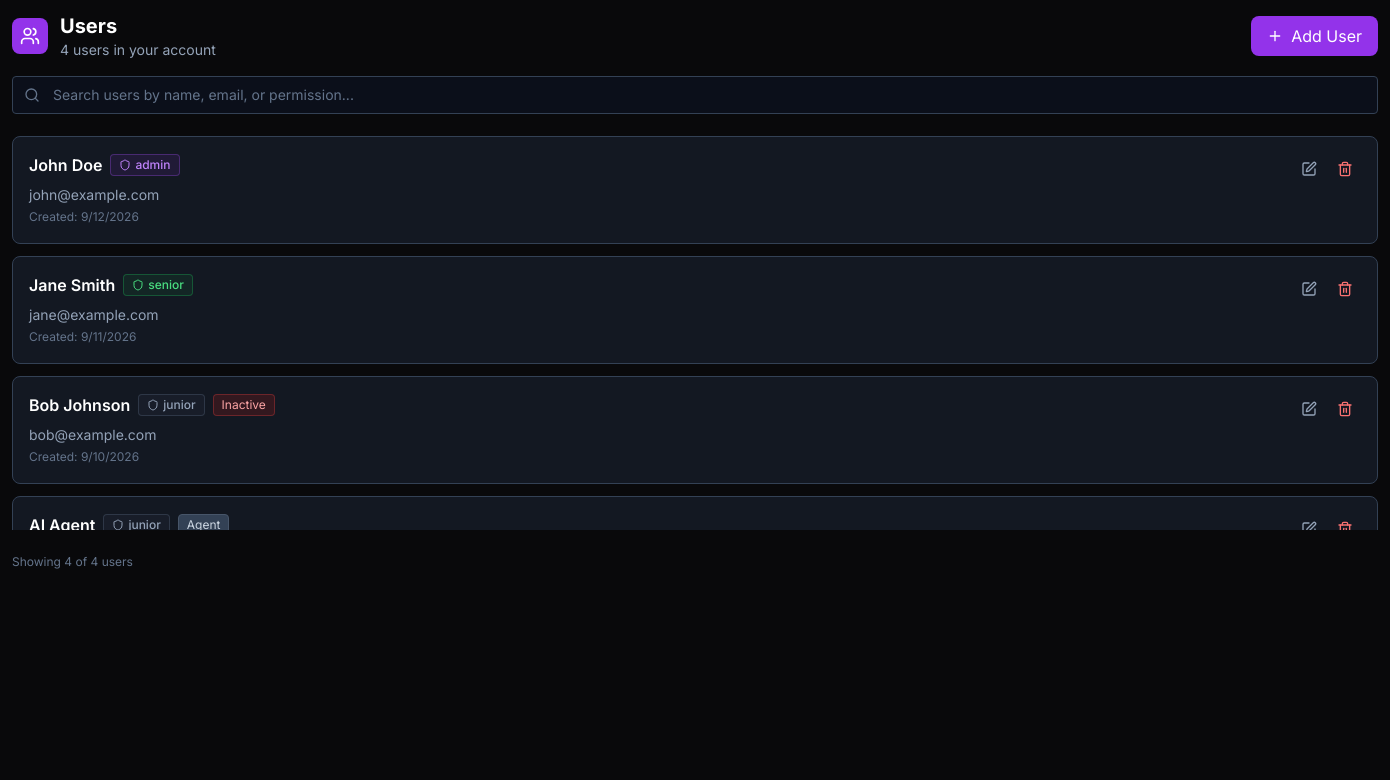
it: UsersListCard › Search and Filter › should filter users by email
This screenshot has width=1390, height=780.
Expected: the heading "Jane Smith" is shown, [29,273,115,297]
Step 1. Type "jane@" into the field with placeholder "Search users by name, email, or permission..." → [695, 95], box [12,76,1378,114]
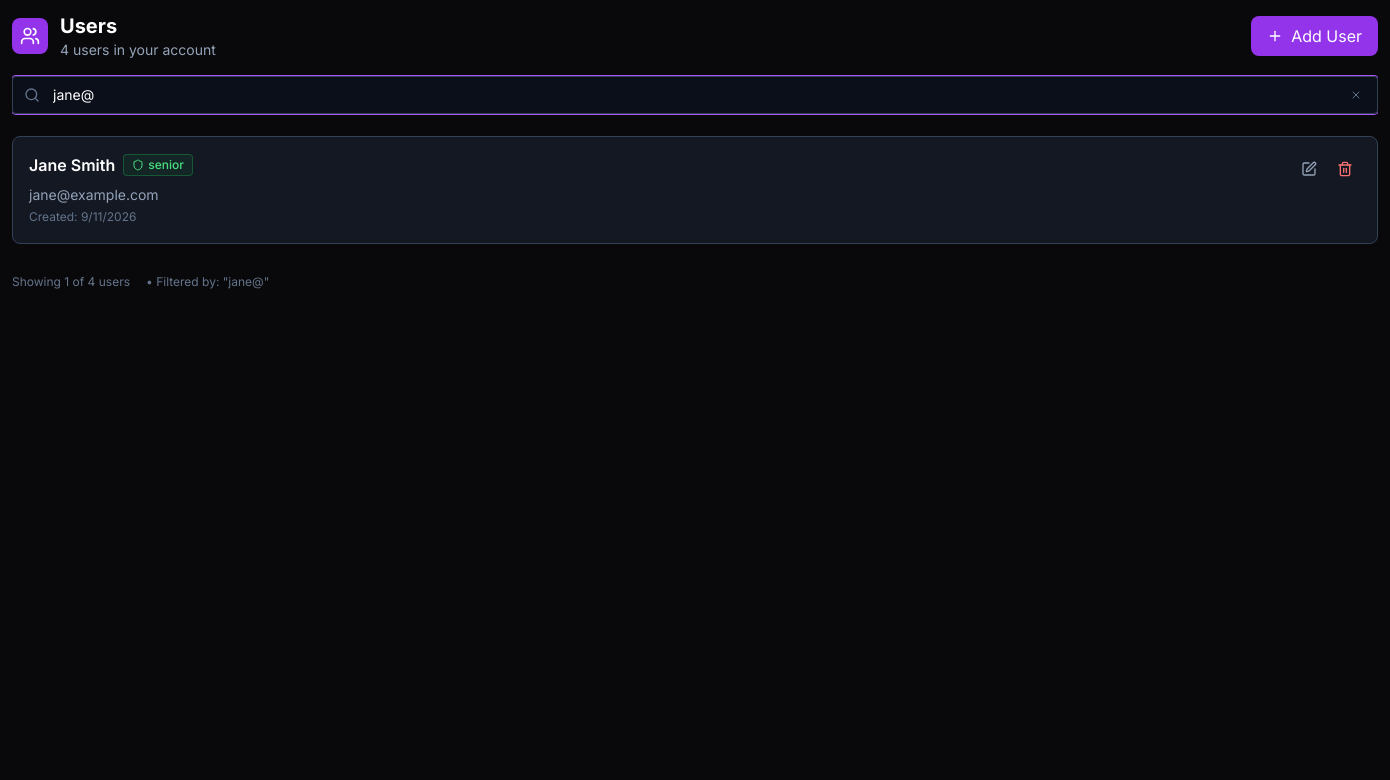
Expected: the heading "Jane Smith" is shown, [29,153,115,177]
Expected: the heading "John Doe" is gone
